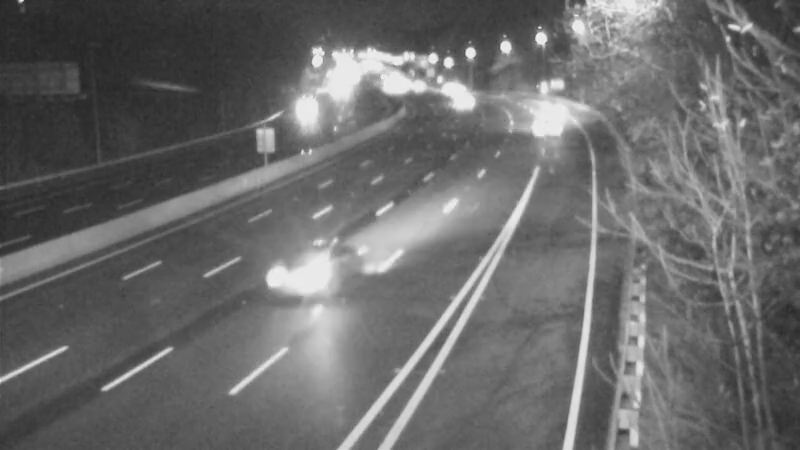vehicle: (274, 231, 354, 311), (440, 77, 490, 127), (522, 87, 572, 137), (523, 105, 573, 155), (275, 88, 325, 138)
